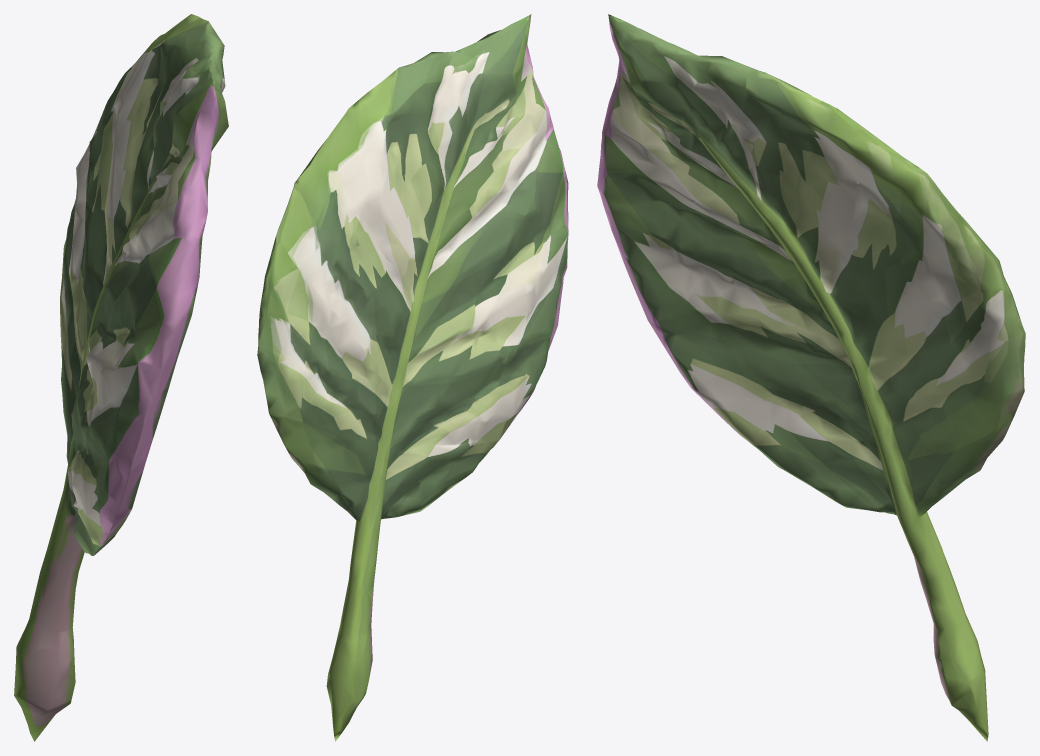
Rendered from ca_leaf_mature_whitefusion.glb.
3 views of the same model, side by side, from view 1: azimuth 30°, elevation 25°; view 2: azimuth 150°, elevation 25°; view 3: azimuth 270°, elevation 25° (orthographic). The views are drawn at different scales.
Parts seen in each view (by area): view 1: tripo_node_0bd0ef29-92b5-4160-a25c-d205d3ed3b39; view 2: tripo_node_0bd0ef29-92b5-4160-a25c-d205d3ed3b39; view 3: tripo_node_0bd0ef29-92b5-4160-a25c-d205d3ed3b39.
Part boxes in pixels (left/top/right/bottom): tripo_node_0bd0ef29-92b5-4160-a25c-d205d3ed3b39: left=14, top=14, right=228, bottom=741; tripo_node_0bd0ef29-92b5-4160-a25c-d205d3ed3b39: left=257, top=14, right=568, bottom=741; tripo_node_0bd0ef29-92b5-4160-a25c-d205d3ed3b39: left=597, top=14, right=1025, bottom=741.
Size of the model in its own units: 0.2595 by 1 by 0.5468.
1 material, 1 textured.
